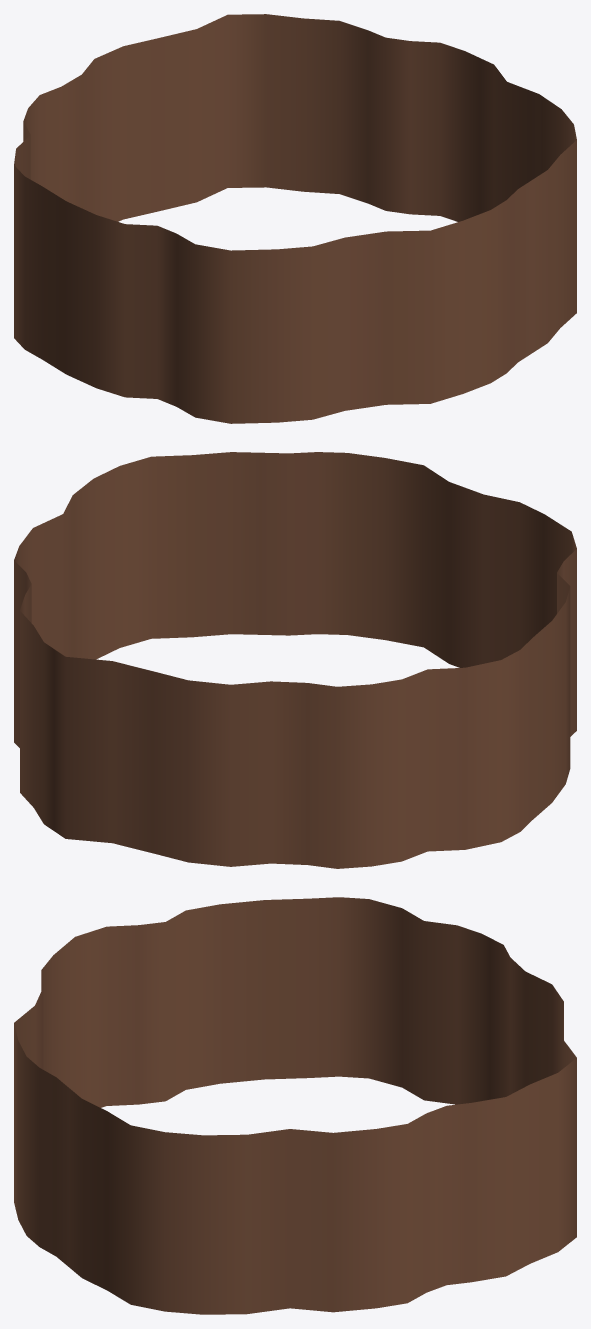
The model's file is islandCollider.fbx.
3 views of the same model, one above another, from view 1: azimuth 30°, elevation 25°; view 2: azimuth 150°, elevation 25°; view 3: azimuth 270°, elevation 25° (orthographic). The views are drawn at different scales.
Parts seen in each view (by area): view 1: islandCollider; view 2: islandCollider; view 3: islandCollider.
Boxes of the visible parts, x1,y1,x2,y2 form: islandCollider: [14, 14, 576, 423]; islandCollider: [14, 452, 576, 868]; islandCollider: [14, 897, 576, 1314].
Size of the model in its own units: 291 by 102 by 291.
